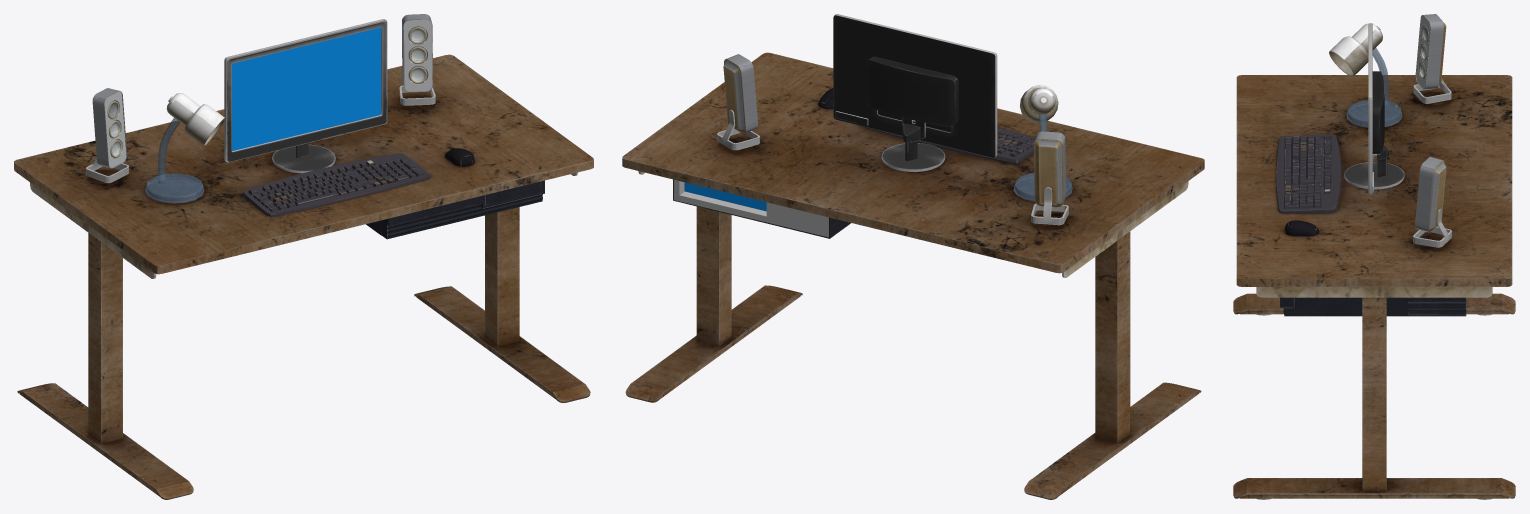
Rendered from entire_computer_setup.glb.
3 views of the same model, side by side, from view 1: azimuth 30°, elevation 25°; view 2: azimuth 150°, elevation 25°; view 3: azimuth 270°, elevation 25° (orthographic). The views are drawn at different scales.
Visible parts, largest first — view 1: office_desk, computer_screen_Cube.009, keyboard, desk_lamp, retro_computer, computer_speaker.001, computer_speaker; view 2: office_desk, computer_screen_Cube.009, retro_computer, computer_speaker.001, computer_speaker, desk_lamp, keyboard; view 3: office_desk, keyboard, retro_computer, computer_screen_Cube.009, desk_lamp, computer_speaker, computer_speaker.001, computer_mouse_01.
Part boxes in pixels (x1,y1,x2,y2): office_desk: [14, 54, 593, 499]; computer_screen_Cube.009: [224, 19, 387, 173]; keyboard: [242, 153, 430, 216]; desk_lamp: [145, 93, 225, 203]; retro_computer: [366, 180, 544, 239]; computer_speaker.001: [86, 88, 128, 183]; computer_speaker: [399, 14, 435, 105]; office_desk: [622, 52, 1204, 499]; computer_screen_Cube.009: [833, 14, 997, 171]; retro_computer: [673, 179, 850, 238]; computer_speaker.001: [1031, 131, 1068, 225]; computer_speaker: [717, 54, 759, 150]; desk_lamp: [1013, 85, 1072, 201]; keyboard: [861, 126, 1035, 163]; office_desk: [1233, 75, 1515, 499]; keyboard: [1276, 134, 1341, 213]; retro_computer: [1280, 297, 1466, 316]; computer_screen_Cube.009: [1344, 23, 1404, 195]; desk_lamp: [1329, 23, 1402, 127]; computer_speaker: [1413, 156, 1451, 247]; computer_speaker.001: [1413, 14, 1451, 103]; computer_mouse_01: [1284, 220, 1318, 236].
Bounding box in the file's own units: 1.4 × 1.09 × 0.8181.
Materials: 1 (1 with a texture image).
